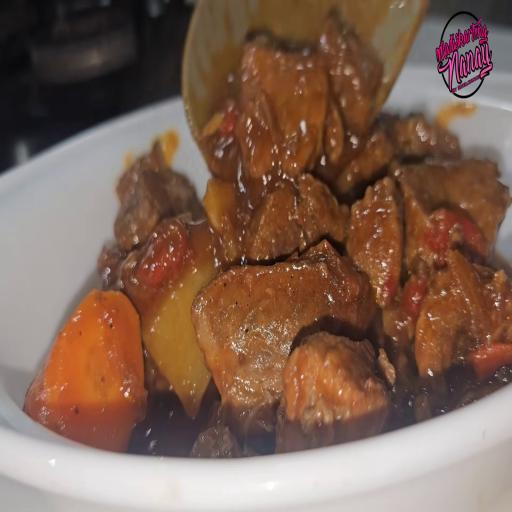pork caldereta: (22, 149, 512, 433)
